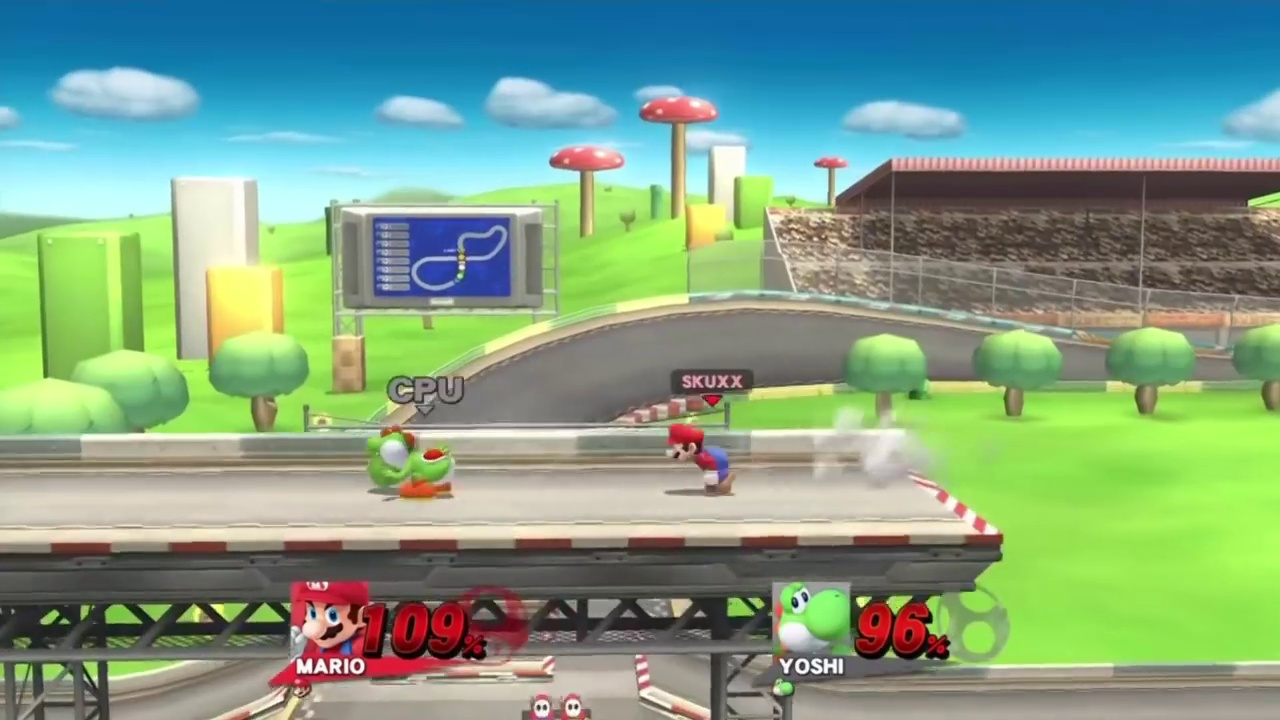Mario: (663, 426, 739, 493)
